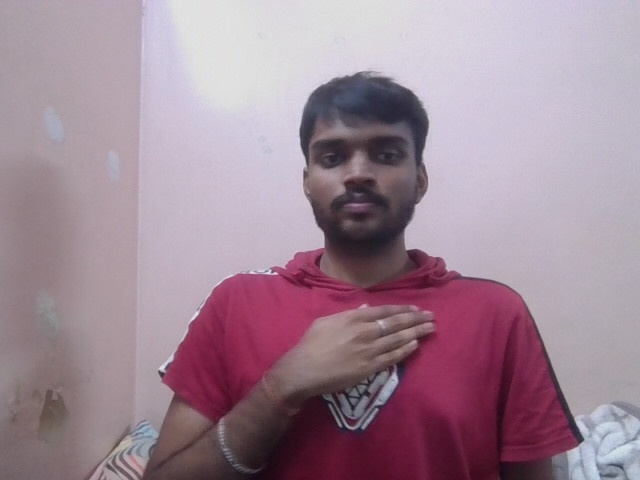Please: (294, 298, 443, 392)
